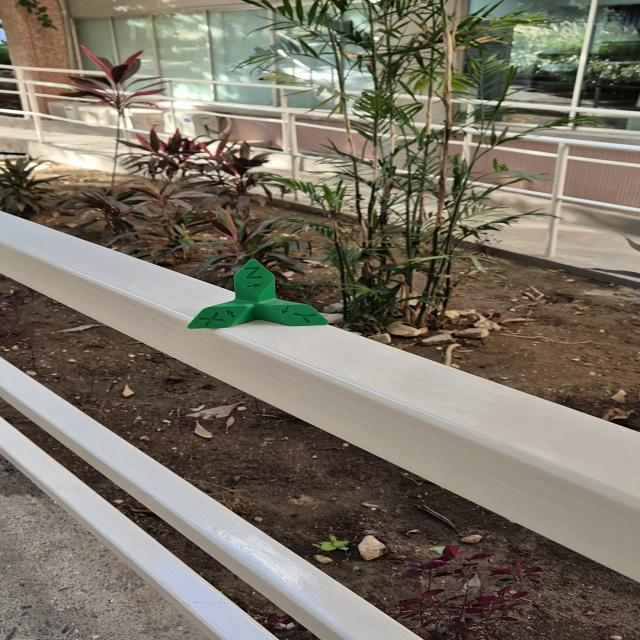objects: (185, 256, 332, 331)
